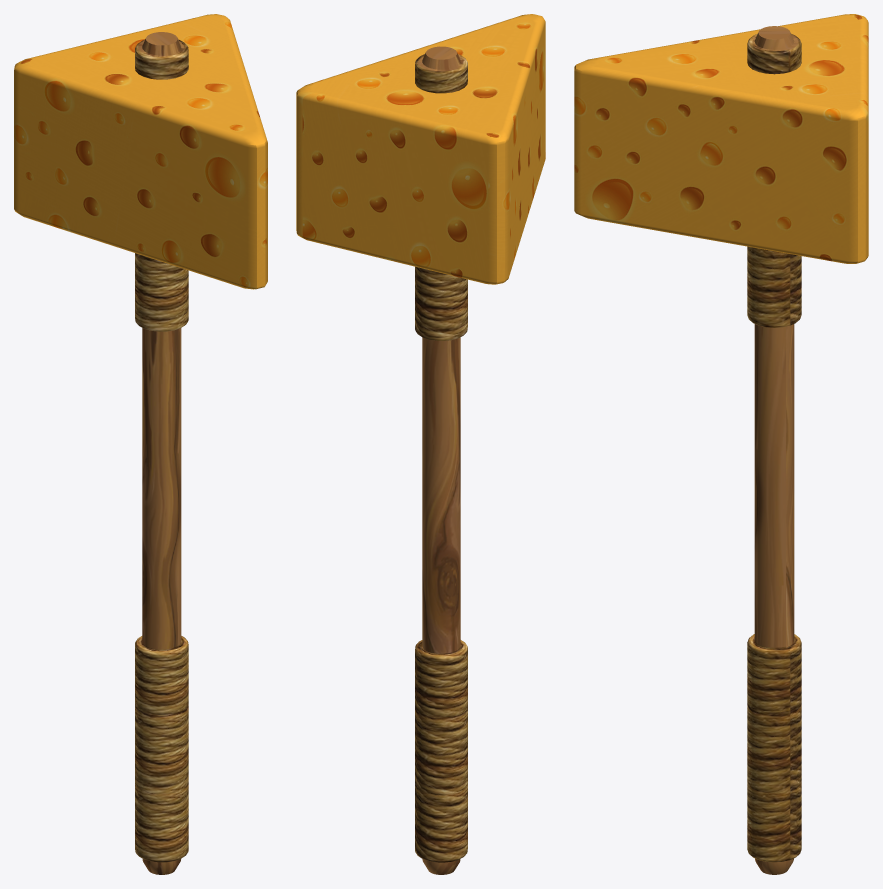
File: hammer_cheese_01.glb
The picture shows the model from 3 angles, left to right: view 1: azimuth 30°, elevation 25°; view 2: azimuth 150°, elevation 25°; view 3: azimuth 270°, elevation 25°; orthographic projection. The views are drawn at different scales.
Visible parts, largest first — view 1: CheeseHammer; view 2: CheeseHammer; view 3: CheeseHammer.
Part boxes in pixels (bbox=[...]): CheeseHammer: bbox=[14, 14, 267, 874]; CheeseHammer: bbox=[296, 14, 545, 874]; CheeseHammer: bbox=[574, 14, 868, 874].
Size of the model in its own units: 0.3403 by 1.27 by 0.4054.
Materials: 1 (1 with a texture image).
